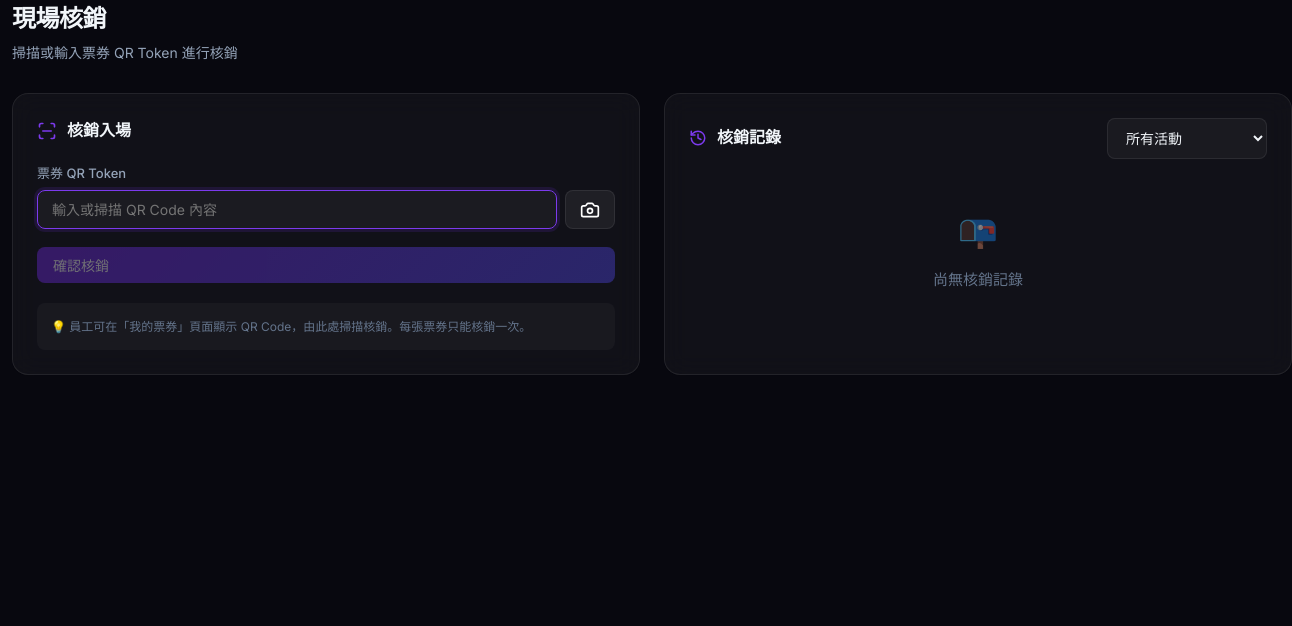
Test: CheckIn › 輸入 QR token 後會 trim 並送出核銷 API
In the field with placeholder "輸入或掃描 QR Code 內容": (297, 210) [37,190,557,229], type "  QR-TOKEN-123456  "
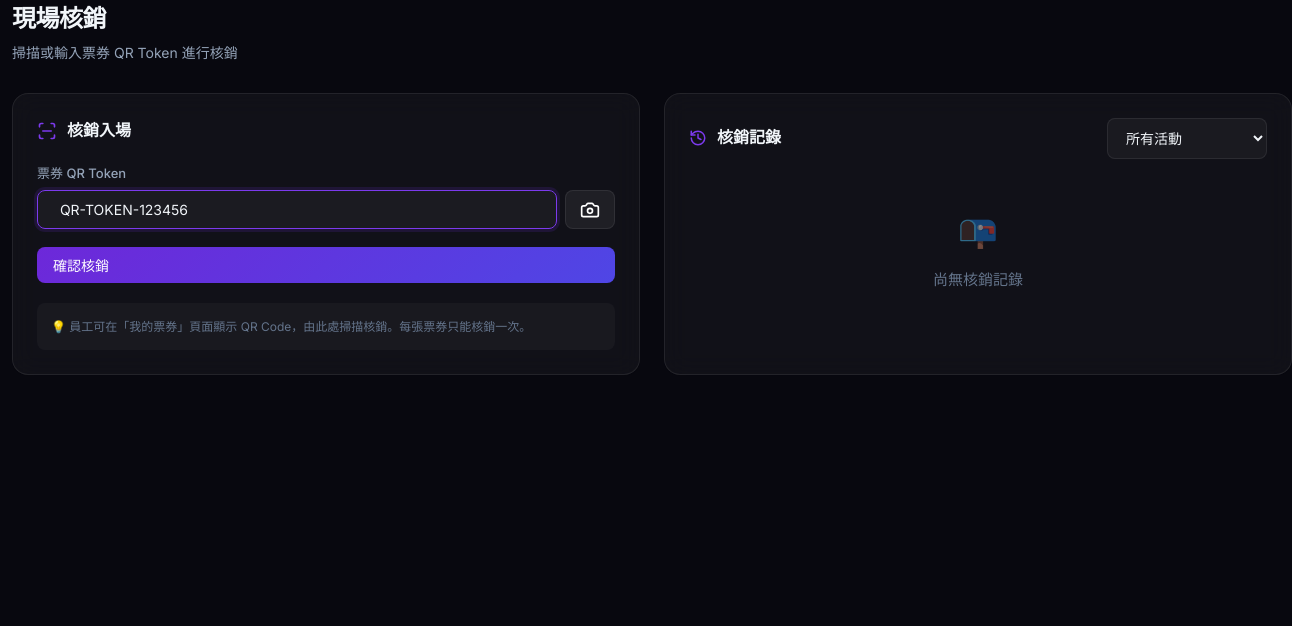
Click the button "確認核銷": click(81, 266) [37,247,615,283]
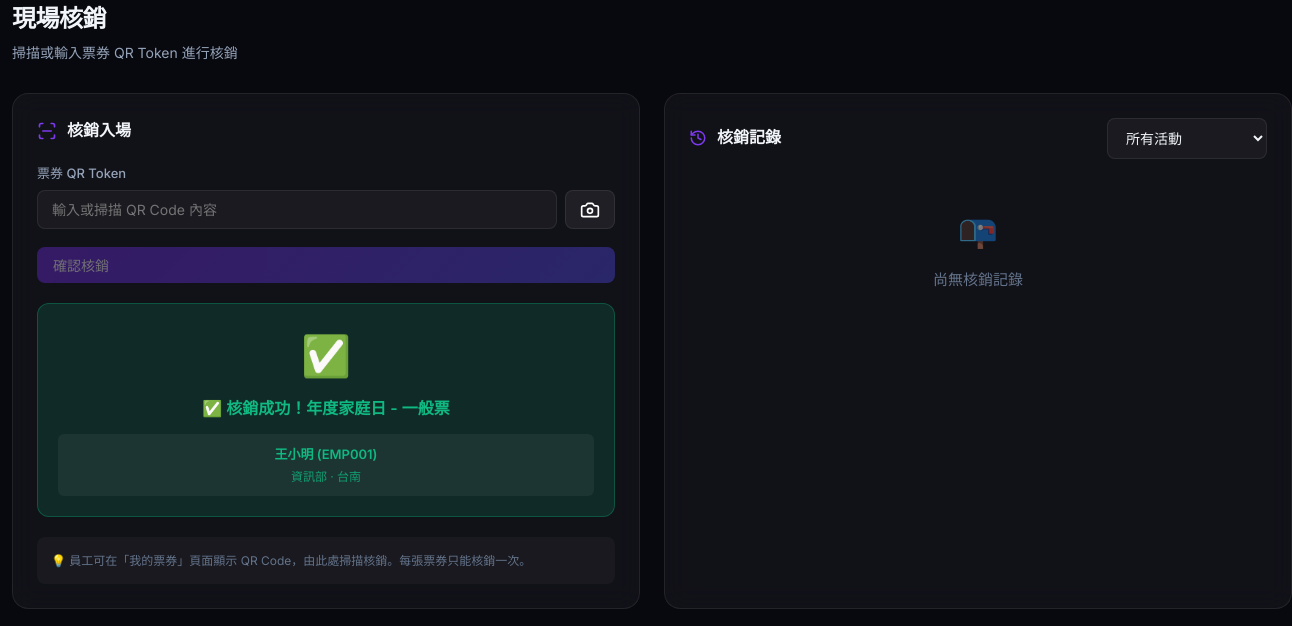
Check: the text "✅ 核銷成功！年度家庭日 - 一般票" is shown, box [202,398,450,418]
Check: the text "王小明 (EMP001)" is shown, box [274,446,377,462]
Check: the field with placeholder "輸入或掃描 QR Code 內容" is empty, box [37,190,557,229]
